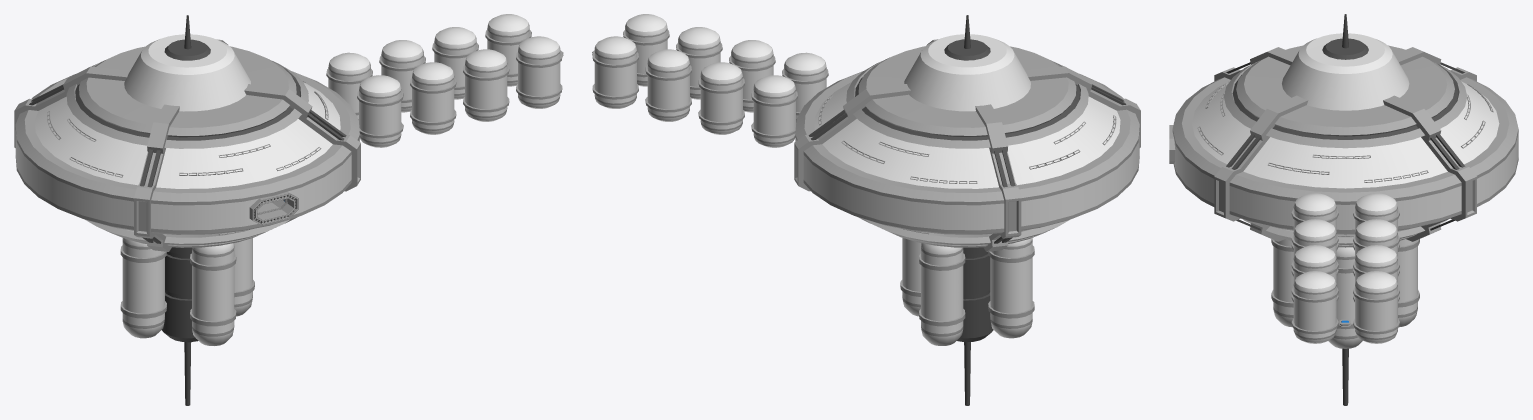
The model's file is SpaceStation.fbx.
3 renders of one model, left to right at view 1: azimuth 30°, elevation 25°; view 2: azimuth 150°, elevation 25°; view 3: azimuth 270°, elevation 25°, orthographic.
Parts seen in each view (by area): view 1: Station_Exterior_Body_Entry, Station_Exterior_Body, Station_Exterior_Tanks.001, Station_Exterior_Tanks, Station_Exterior_Top, Station_Exterior_BodyFrame, Station_Exterior_LowerBody, Station_Exterior_Lights, Station_Entry, Station_Exterior_TopSpike; view 2: Station_Exterior_Body, Station_Exterior_Tanks.001, Station_Exterior_Tanks, Station_Exterior_Top, Station_Exterior_BodyFrame, Station_Exterior_LowerBody, Station_Exterior_Lights, Station_Exterior_TopSpike, Station_Exterior_Body_Entry; view 3: Station_Exterior_Body, Station_Exterior_Tanks.001, Station_Exterior_Body_Entry, Station_Exterior_BodyFrame, Station_Exterior_Top, Station_Exterior_Tanks, Station_Exterior_Lights, Station_Exterior_TopSpike, Station_Exterior_LowerBody.
Part boxes in pixels (left/top/right/bottom): Station_Exterior_Body_Entry: left=151, top=95, right=351, bottom=247; Station_Exterior_Body: left=15, top=46, right=359, bottom=243; Station_Exterior_Tanks.001: left=326, top=14, right=562, bottom=147; Station_Exterior_Tanks: left=120, top=238, right=254, bottom=345; Station_Exterior_Top: left=124, top=34, right=250, bottom=111; Station_Exterior_BodyFrame: left=14, top=39, right=360, bottom=251; Station_Exterior_LowerBody: left=162, top=247, right=198, bottom=405; Station_Exterior_Lights: left=47, top=81, right=328, bottom=235; Station_Entry: left=249, top=192, right=298, bottom=225; Station_Exterior_TopSpike: left=164, top=15, right=210, bottom=60; Station_Exterior_Body: left=795, top=46, right=1139, bottom=247; Station_Exterior_Tanks.001: left=592, top=14, right=828, bottom=147; Station_Exterior_Tanks: left=900, top=238, right=1034, bottom=345; Station_Exterior_Top: left=904, top=34, right=1030, bottom=111; Station_Exterior_BodyFrame: left=794, top=39, right=1140, bottom=251; Station_Exterior_LowerBody: left=957, top=247, right=993, bottom=405; Station_Exterior_Lights: left=818, top=95, right=1116, bottom=234; Station_Exterior_TopSpike: left=944, top=15, right=990, bottom=60; Station_Exterior_Body_Entry: left=1010, top=46, right=1123, bottom=98; Station_Exterior_Body: left=1229, top=45, right=1518, bottom=247; Station_Exterior_Tanks.001: left=1291, top=193, right=1399, bottom=343; Station_Exterior_Body_Entry: left=1172, top=56, right=1290, bottom=223; Station_Exterior_BodyFrame: left=1214, top=47, right=1476, bottom=241; Station_Exterior_Top: left=1282, top=33, right=1409, bottom=110; Station_Exterior_Tanks: left=1271, top=239, right=1419, bottom=348; Station_Exterior_Lights: left=1197, top=81, right=1493, bottom=236; Station_Exterior_TopSpike: left=1322, top=14, right=1368, bottom=59; Station_Exterior_LowerBody: left=1342, top=348, right=1348, bottom=405.
Size of the model in its own units: 247 by 176 by 142.
Materials: 6 (1 with a texture image).
